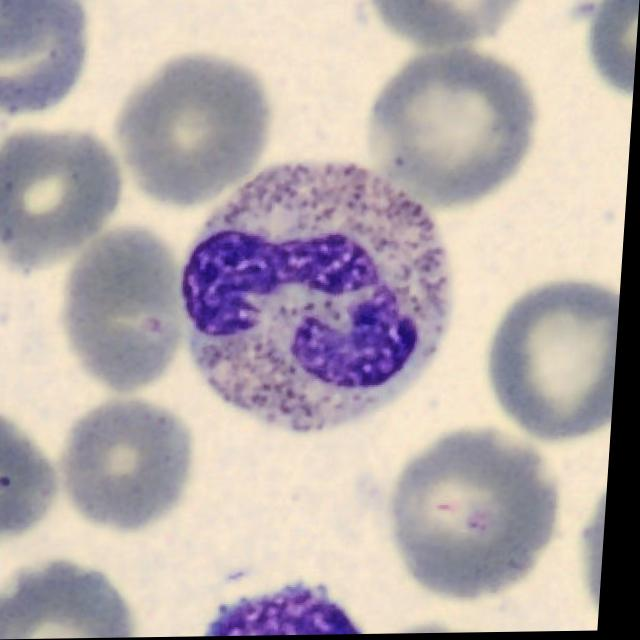Neutrofilo segmentado: (183, 164, 458, 435)
